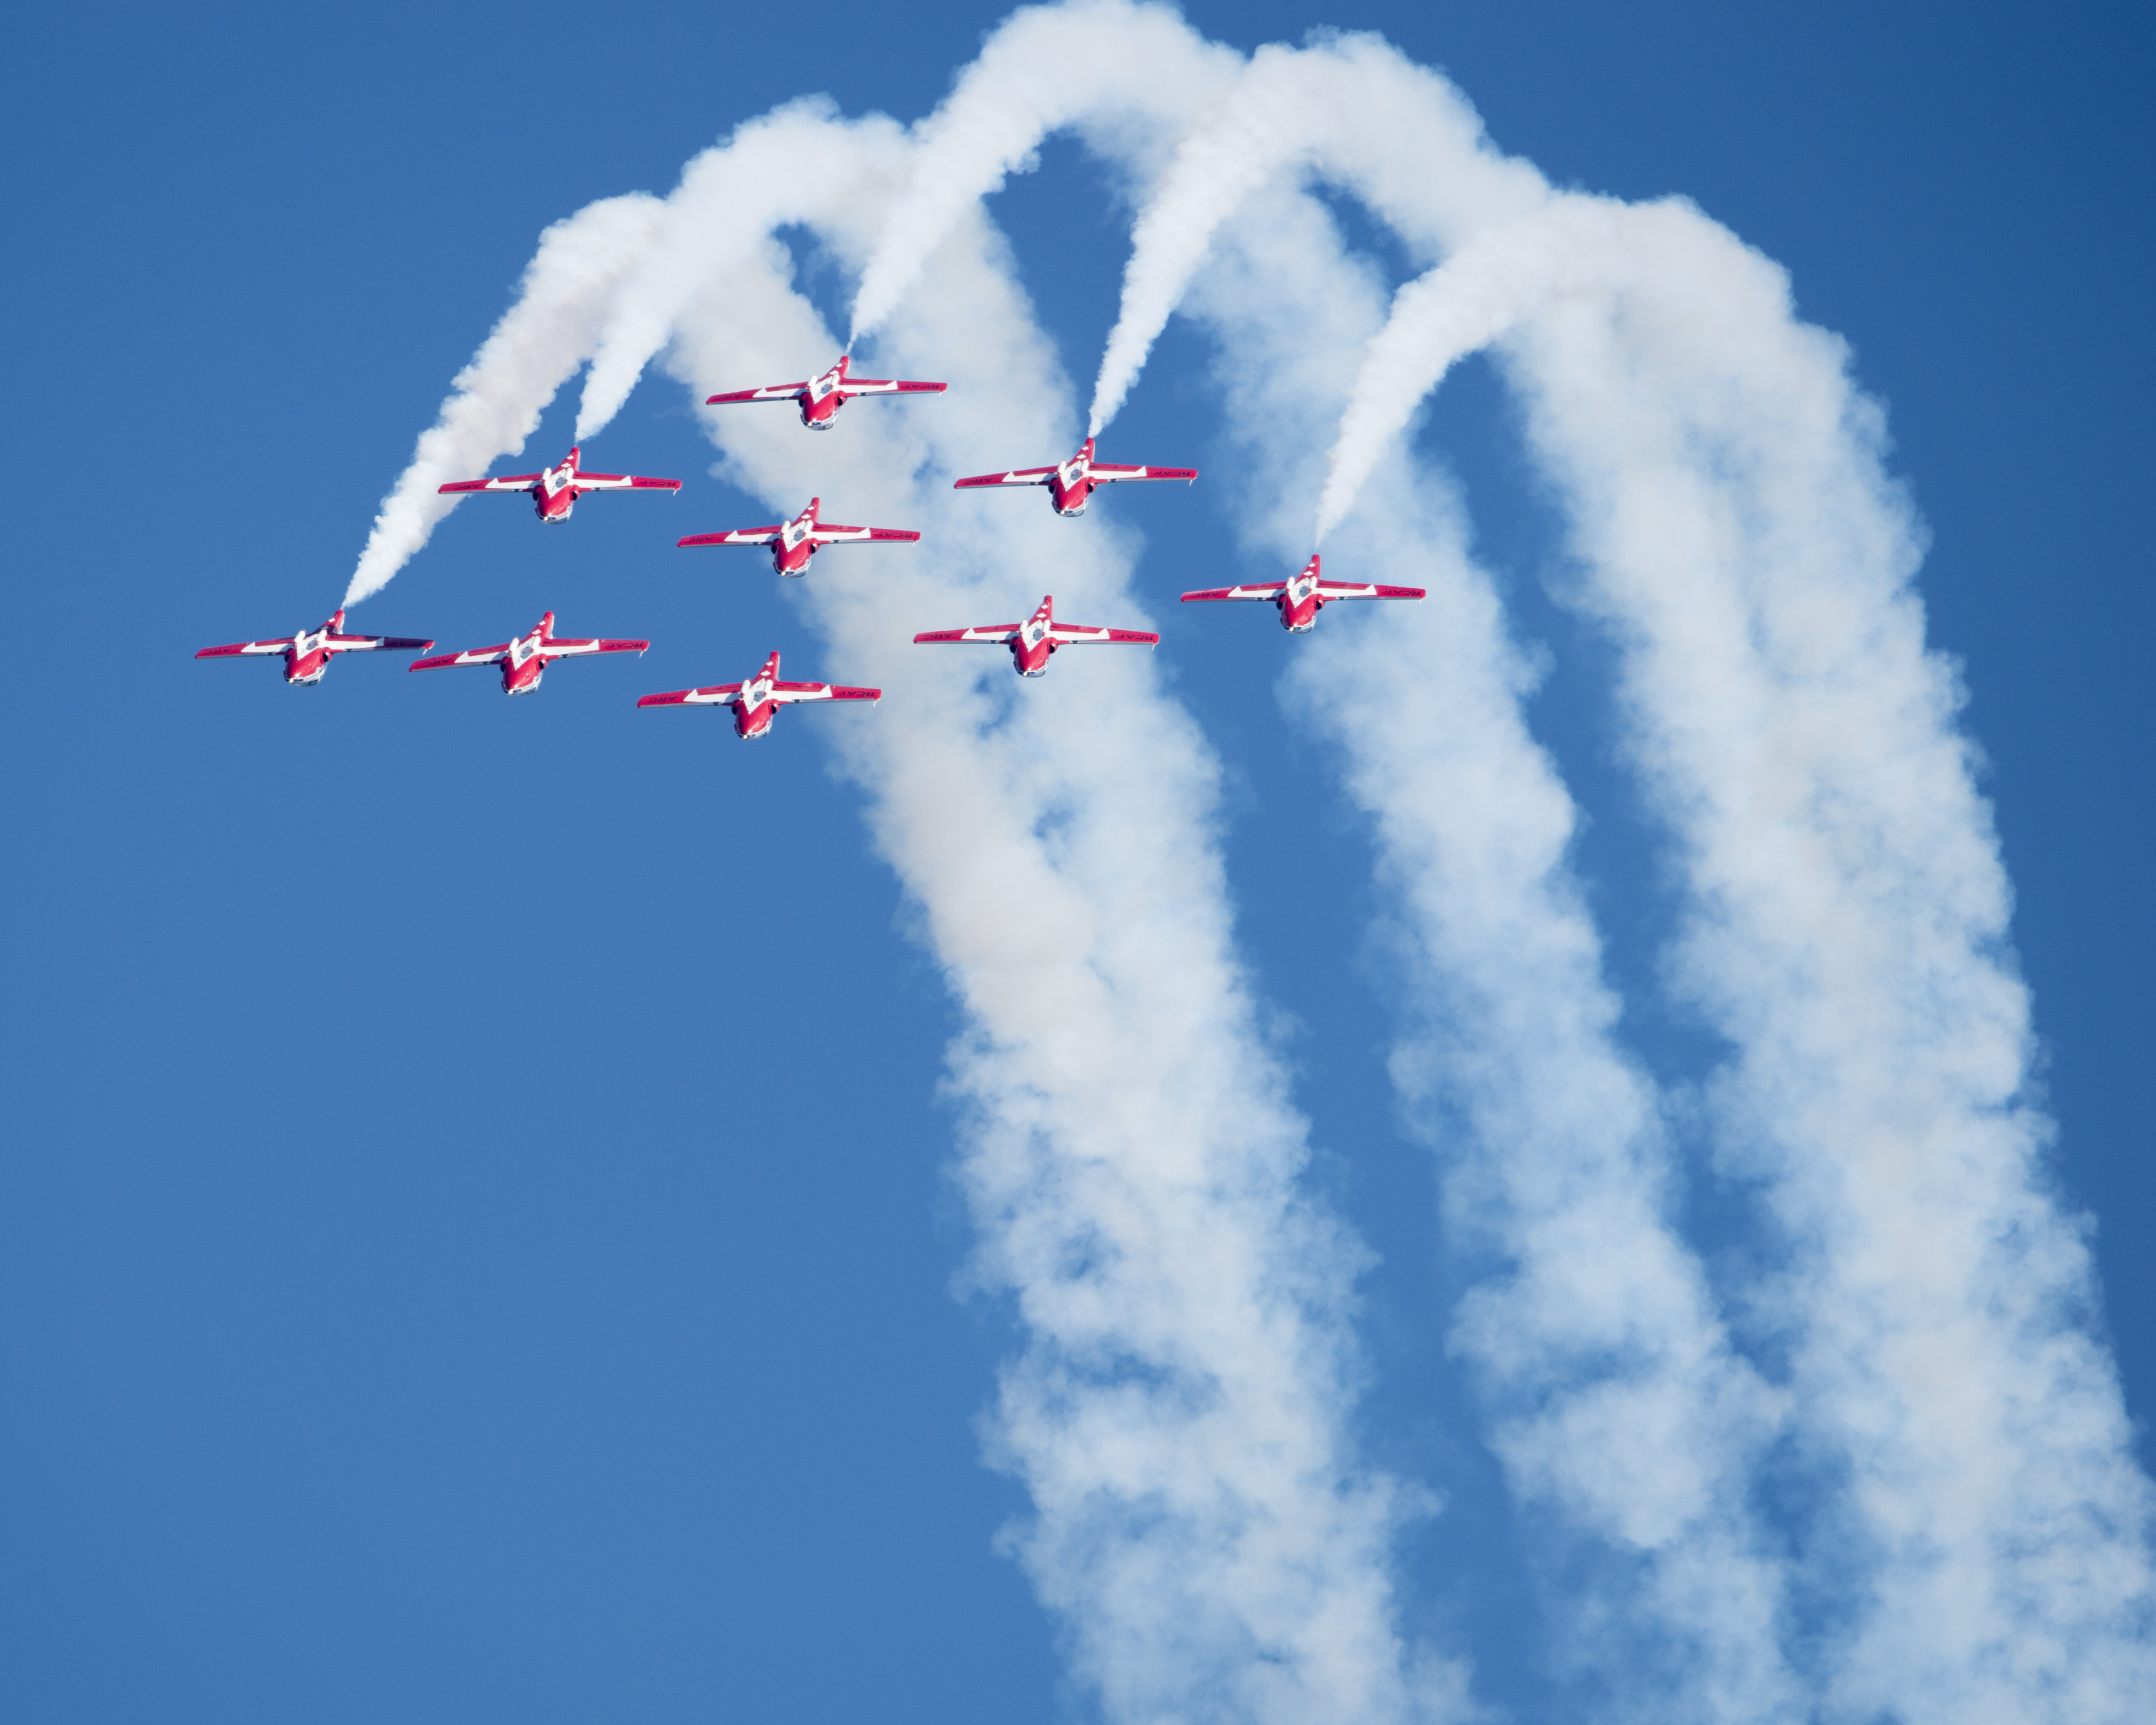Aeronef_de_loisir: (410, 410, 697, 549), (938, 396, 1211, 533), (625, 625, 899, 760), (400, 593, 660, 725), (165, 604, 449, 722), (1167, 530, 1436, 651), (665, 479, 938, 598), (681, 338, 952, 442), (913, 597, 1172, 704)
